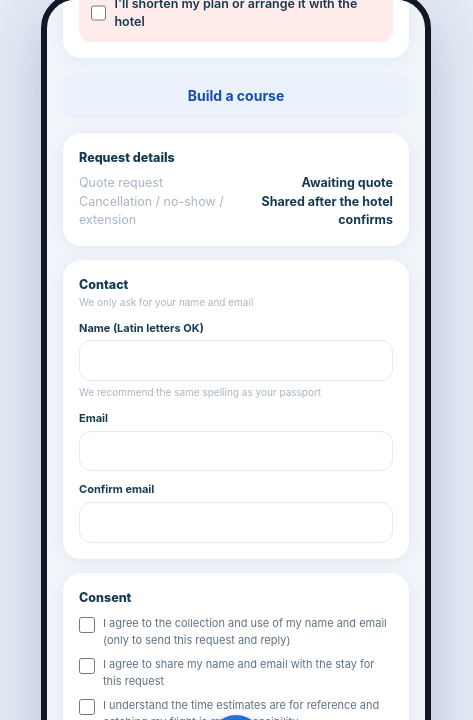
Test: 견적 요청(가격표 없음)·노출·데모 아님 › 공항에서 먼 숙소(제휴 협의 중, 약 75분): 숙소 출발 기한이 슬롯보다 이르면 이용할 시간 없음 → 요청 불가
The image size is (473, 720).
(page scrolled)
In the field labelled "Name": (236, 361) x1=79 y1=340 x2=393 y2=381, type "KIM MINJI"
In the field labelled "Email": (236, 451) x1=79 y1=430 x2=393 y2=471, type "minji@example.test"
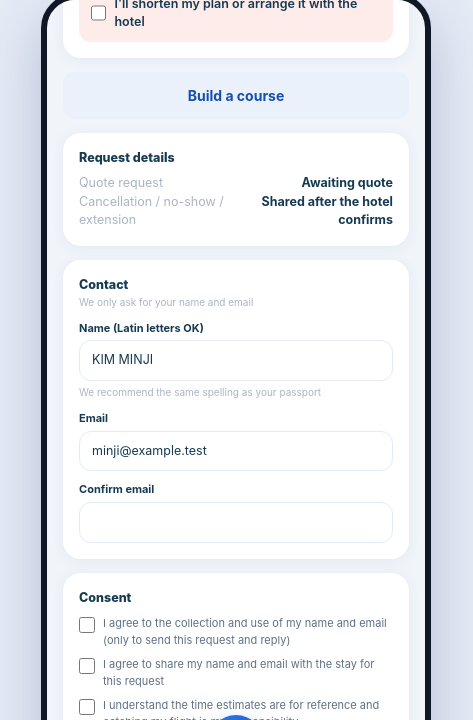
In the field labelled "Confirm email": (236, 522) x1=79 y1=502 x2=393 y2=543, type "minji@example.test"
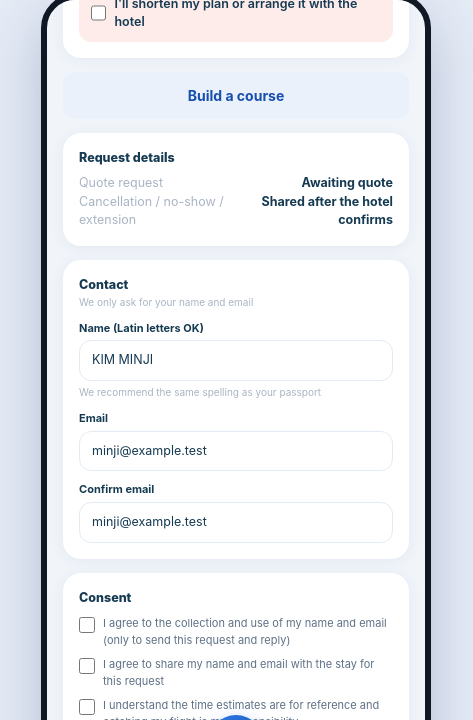
Click the 2nd checkbox: (87, 625) x1=79 y1=617 x2=95 y2=633
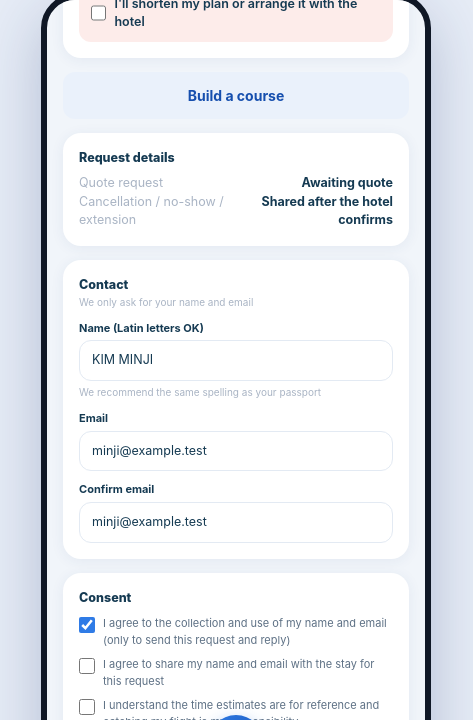
Click the 3rd checkbox: (87, 666) x1=79 y1=658 x2=95 y2=674
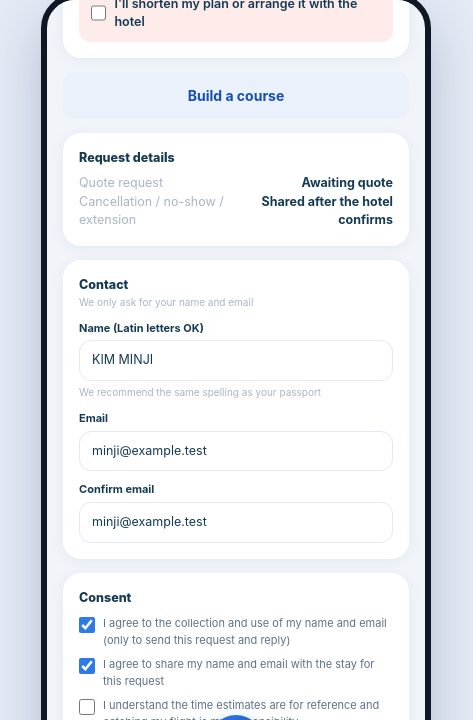
Click the 4th checkbox: (87, 707) x1=79 y1=699 x2=95 y2=715
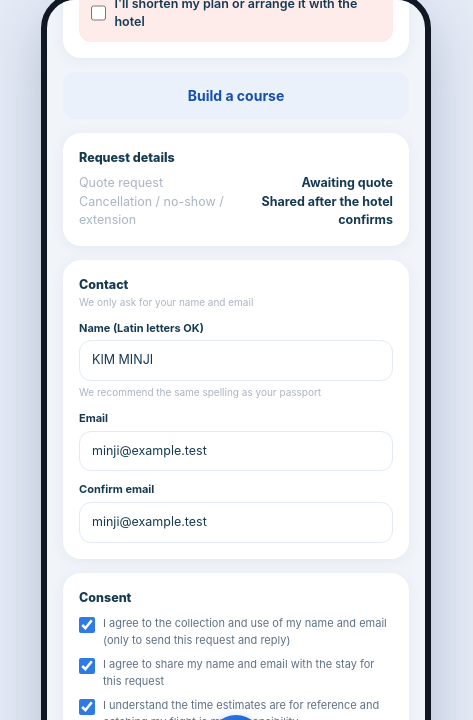
Click the checkbox labelled "I'll shorten my plan or arrange it with the hotel": (99, 13) x1=91 y1=5 x2=106 y2=21
(page scrolled)
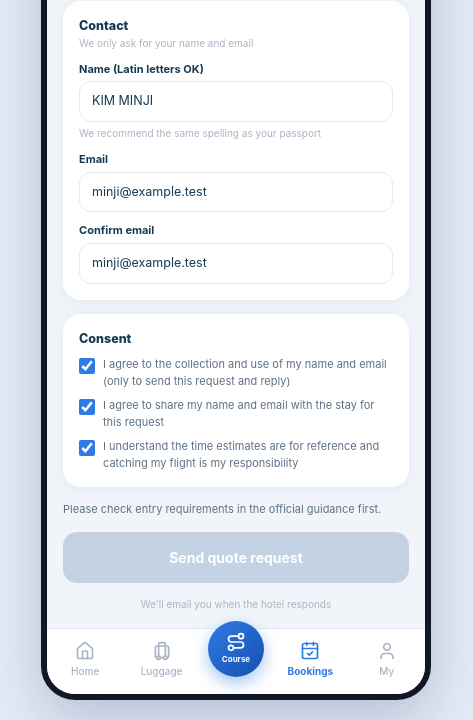
Expected: the button "Send quote request" is disabled, x1=63 y1=532 x2=409 y2=583
